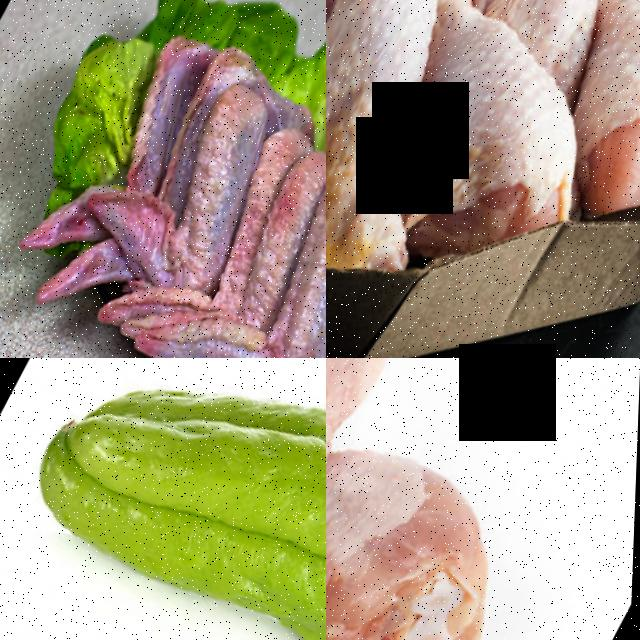chayote: (0, 358, 326, 640)
chicken thigh: (326, 0, 639, 257), (326, 0, 512, 282), (326, 419, 553, 640), (326, 358, 431, 640)
chicken wing: (144, 99, 326, 358)
